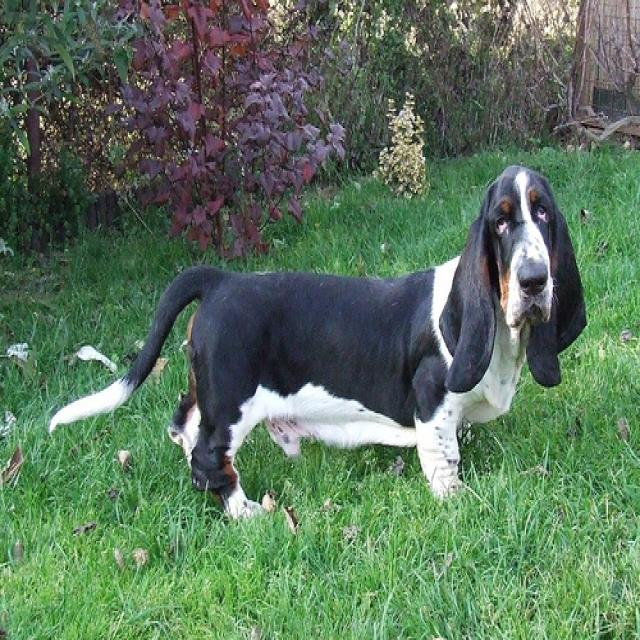dog-basset_hound: (41, 155, 598, 522)
